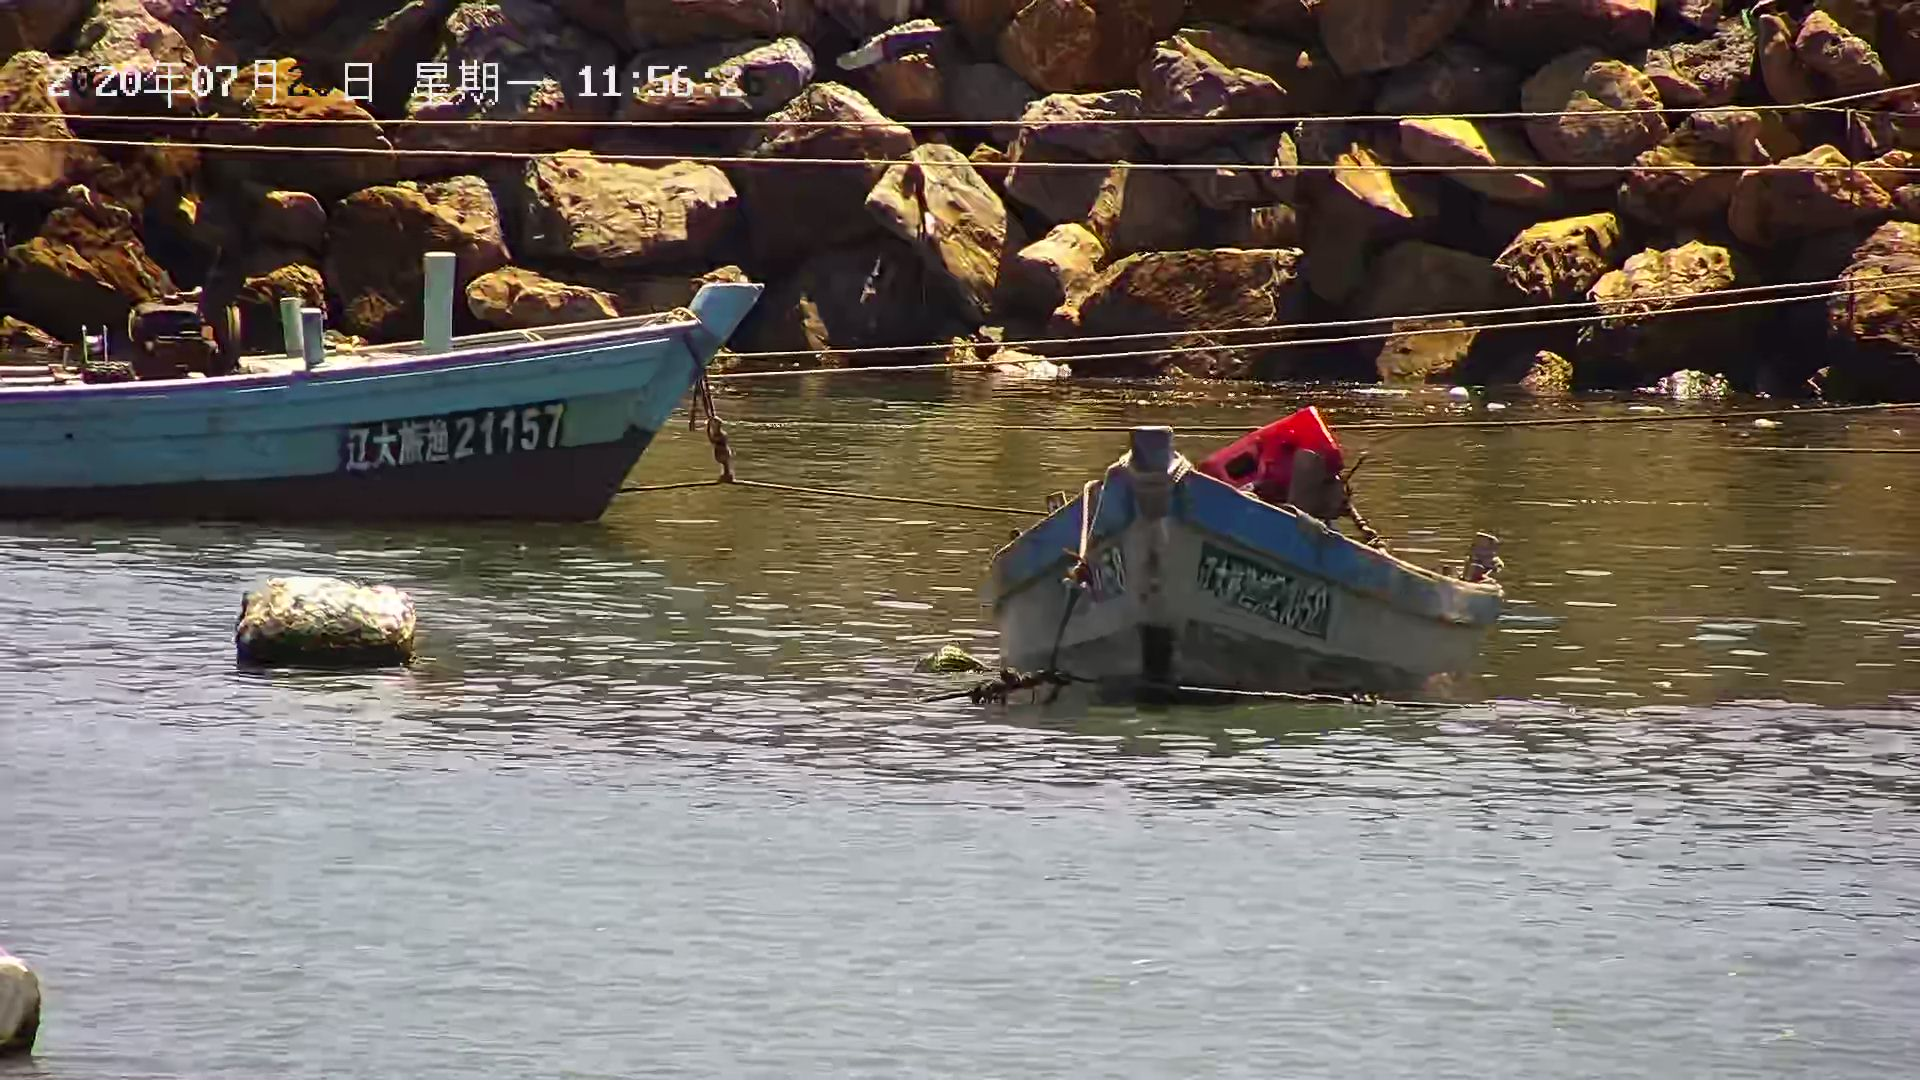boat: (1, 232, 749, 521), (934, 400, 1513, 741)
rubbish: (224, 574, 429, 671)
